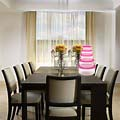copymove: (71, 43, 81, 68)
removal: (10, 44, 31, 65)
spliced: (78, 44, 95, 75)
